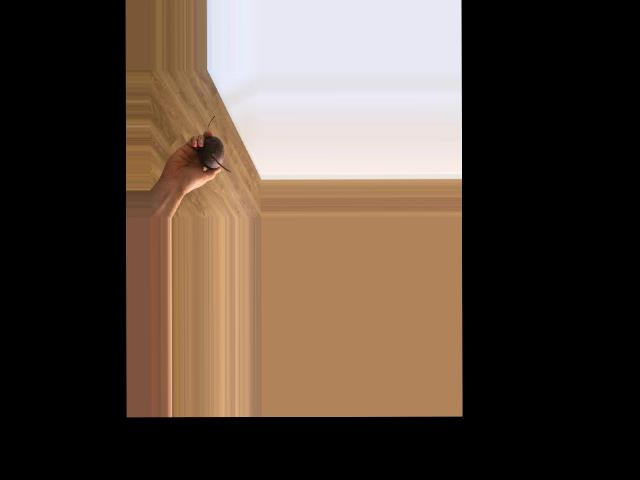beet: (198, 115, 230, 171)
